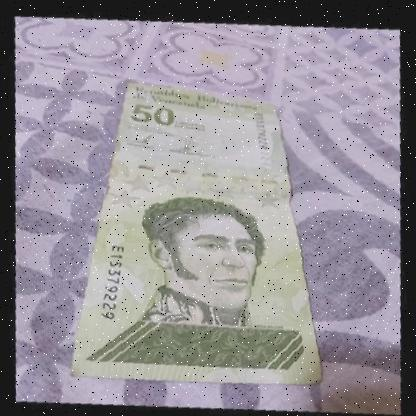fifty-front-vef: (46, 64, 322, 402)
